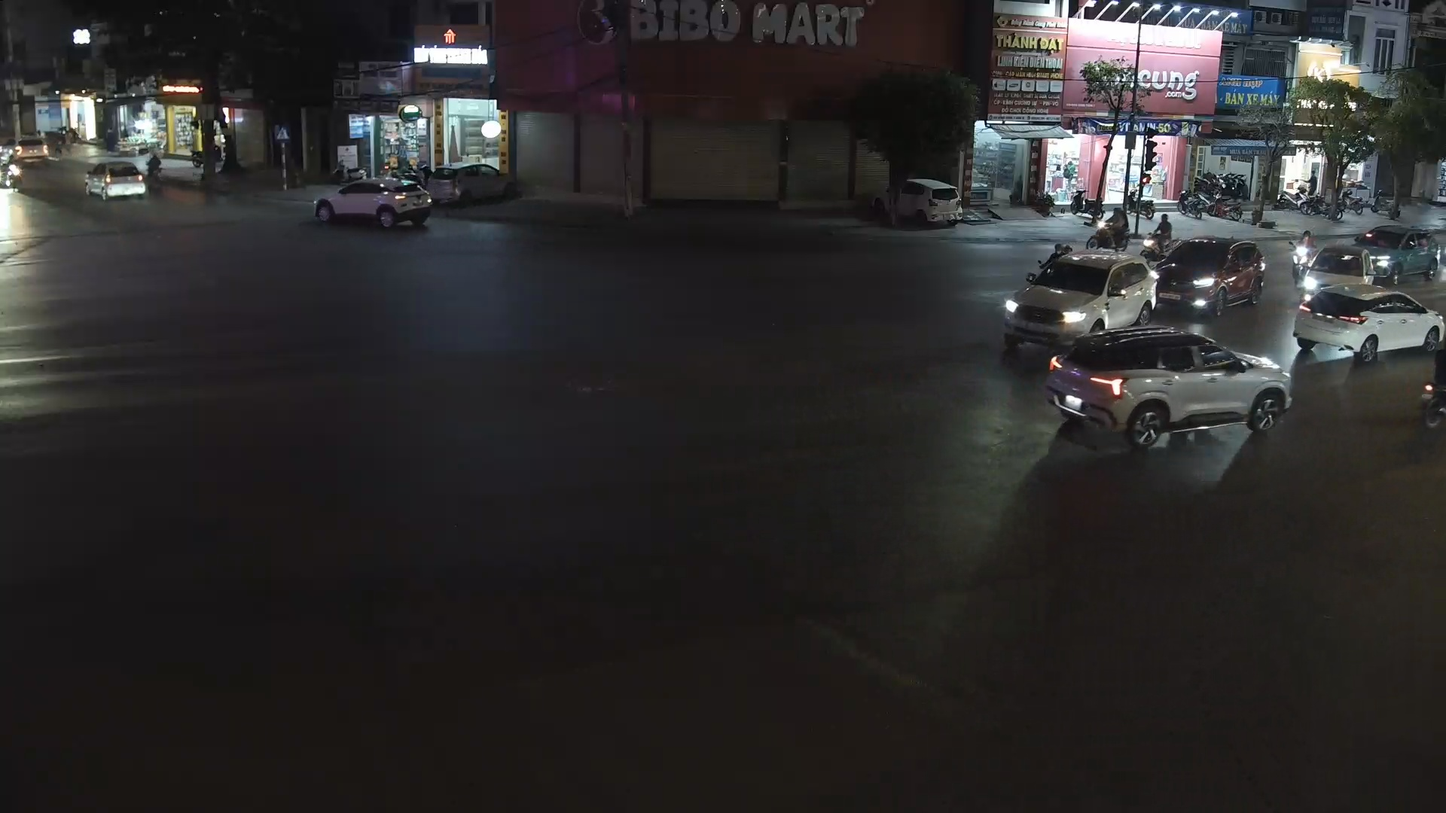car: (1048, 325, 1295, 450), (998, 245, 1158, 374), (1291, 279, 1445, 369), (1153, 233, 1268, 327), (311, 177, 433, 233)
motorbike: (1419, 326, 1445, 434)
